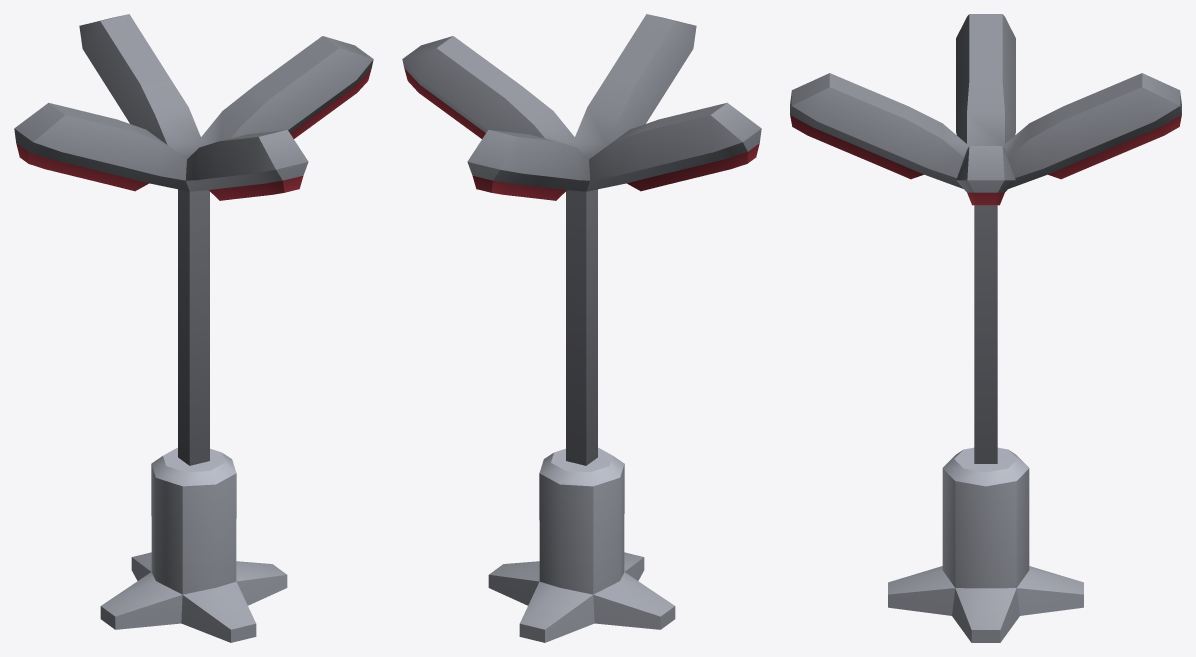
File: lights.glb
The picture shows the model from 3 angles, left to right: view 1: azimuth 30°, elevation 25°; view 2: azimuth 150°, elevation 25°; view 3: azimuth 270°, elevation 25°; orthographic projection.
Visible parts, largest first — view 1: lights; view 2: lights; view 3: lights.
Part boxes in pixels (x1=…): lights: x1=14, y1=14, x2=373, y2=642; lights: x1=402, y1=14, x2=761, y2=642; lights: x1=790, y1=14, x2=1181, y2=642.
Size of the model in its own units: 0.68 by 0.9984 by 0.68.
1 material, 1 textured.
